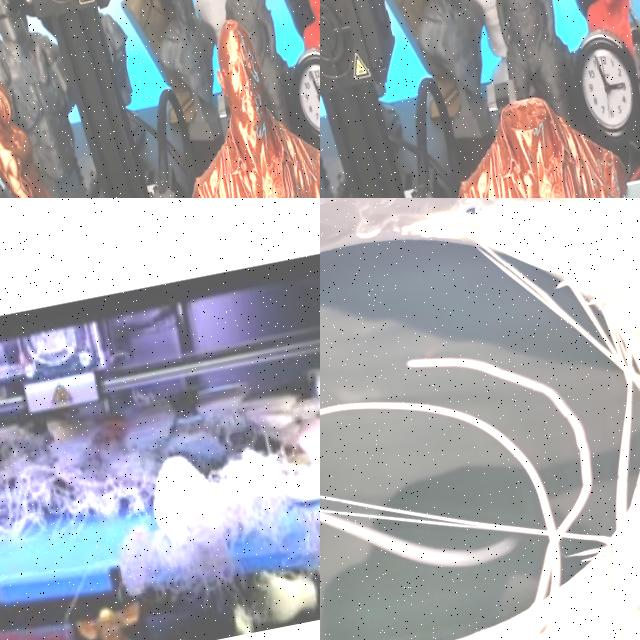spaghetti: (320, 198, 640, 640), (0, 386, 320, 597)
